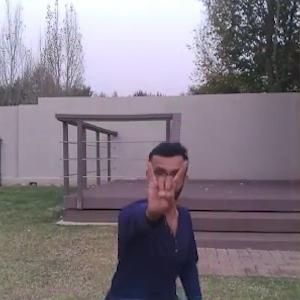takeoff-hand: (137, 152, 192, 220)
